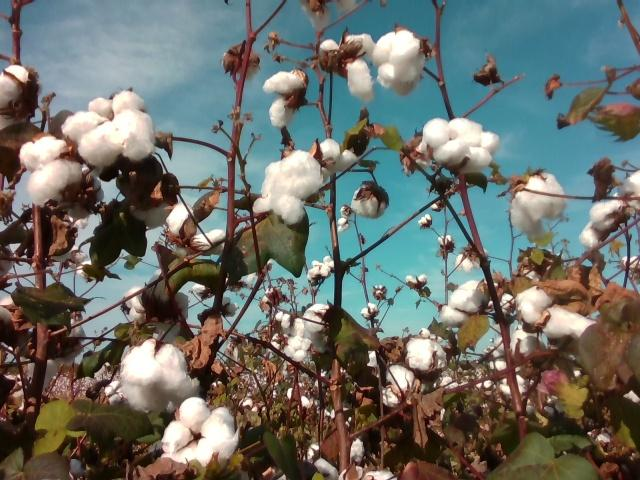cotton_ready: (61, 92, 156, 168), (121, 336, 201, 412), (162, 397, 244, 467), (252, 149, 324, 224), (19, 137, 88, 207), (581, 170, 640, 250), (319, 31, 377, 102), (507, 171, 568, 238), (424, 117, 503, 168), (518, 288, 598, 338), (373, 29, 430, 97), (261, 70, 309, 130), (0, 65, 40, 122), (441, 279, 488, 327), (403, 338, 449, 378), (128, 193, 176, 230), (385, 365, 423, 407), (308, 140, 361, 170), (165, 202, 195, 253), (221, 47, 261, 82), (301, 301, 336, 340), (352, 184, 392, 218), (0, 296, 29, 342), (142, 268, 169, 315), (57, 317, 85, 359), (126, 285, 151, 324), (162, 291, 191, 323), (191, 230, 226, 254)
